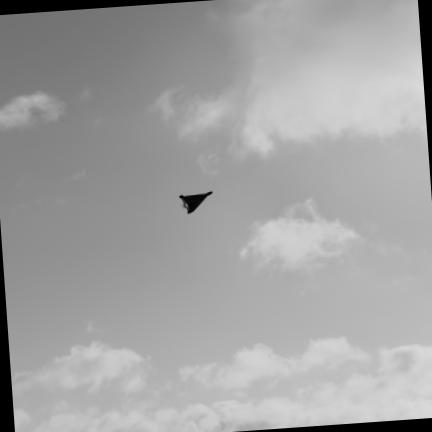Shahed: (179, 191, 211, 213)
